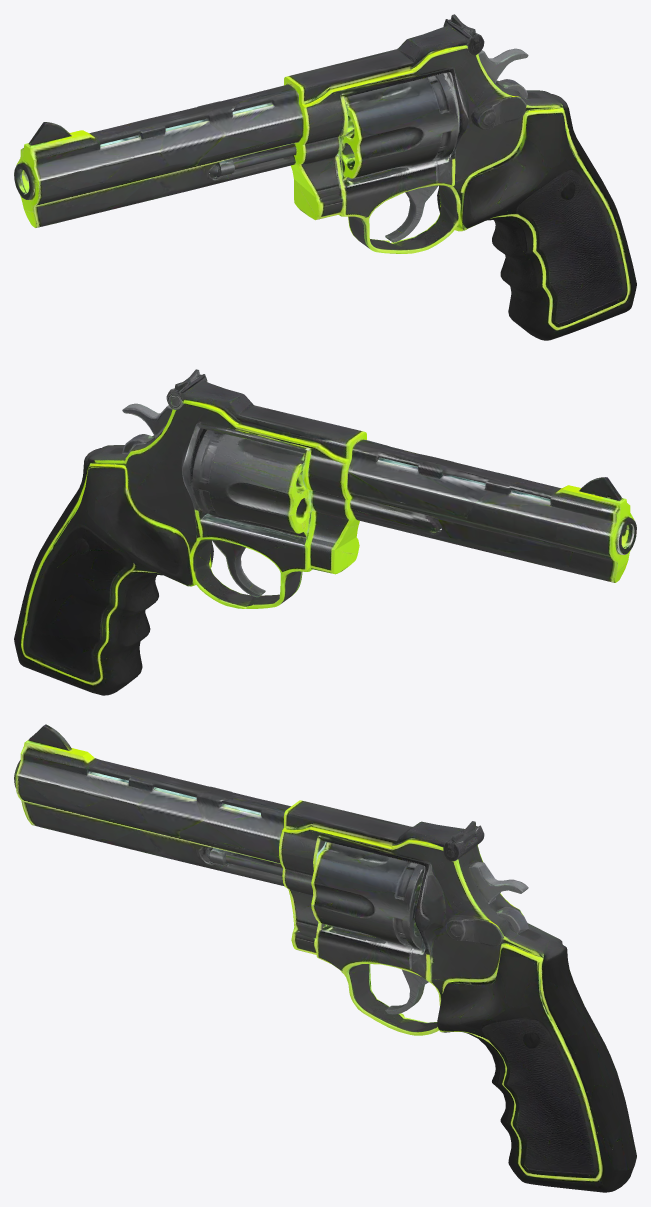
File: gun_revolver.glb
3 renders of one model, top to bottom at view 1: azimuth 30°, elevation 25°; view 2: azimuth 150°, elevation 25°; view 3: azimuth 330°, elevation 25°, orthographic.
Parts seen in each view (by area): view 1: Mesh_0; view 2: Mesh_0; view 3: Mesh_0.
Boxes of the visible parts, box(x1,y1,x2,y2) form: Mesh_0: box(14, 14, 636, 340); Mesh_0: box(14, 369, 636, 695); Mesh_0: box(14, 724, 636, 1192).
Bounding box in the file's own units: 1.9 × 0.988 × 0.2671.
Materials: 1 (1 with a texture image).
